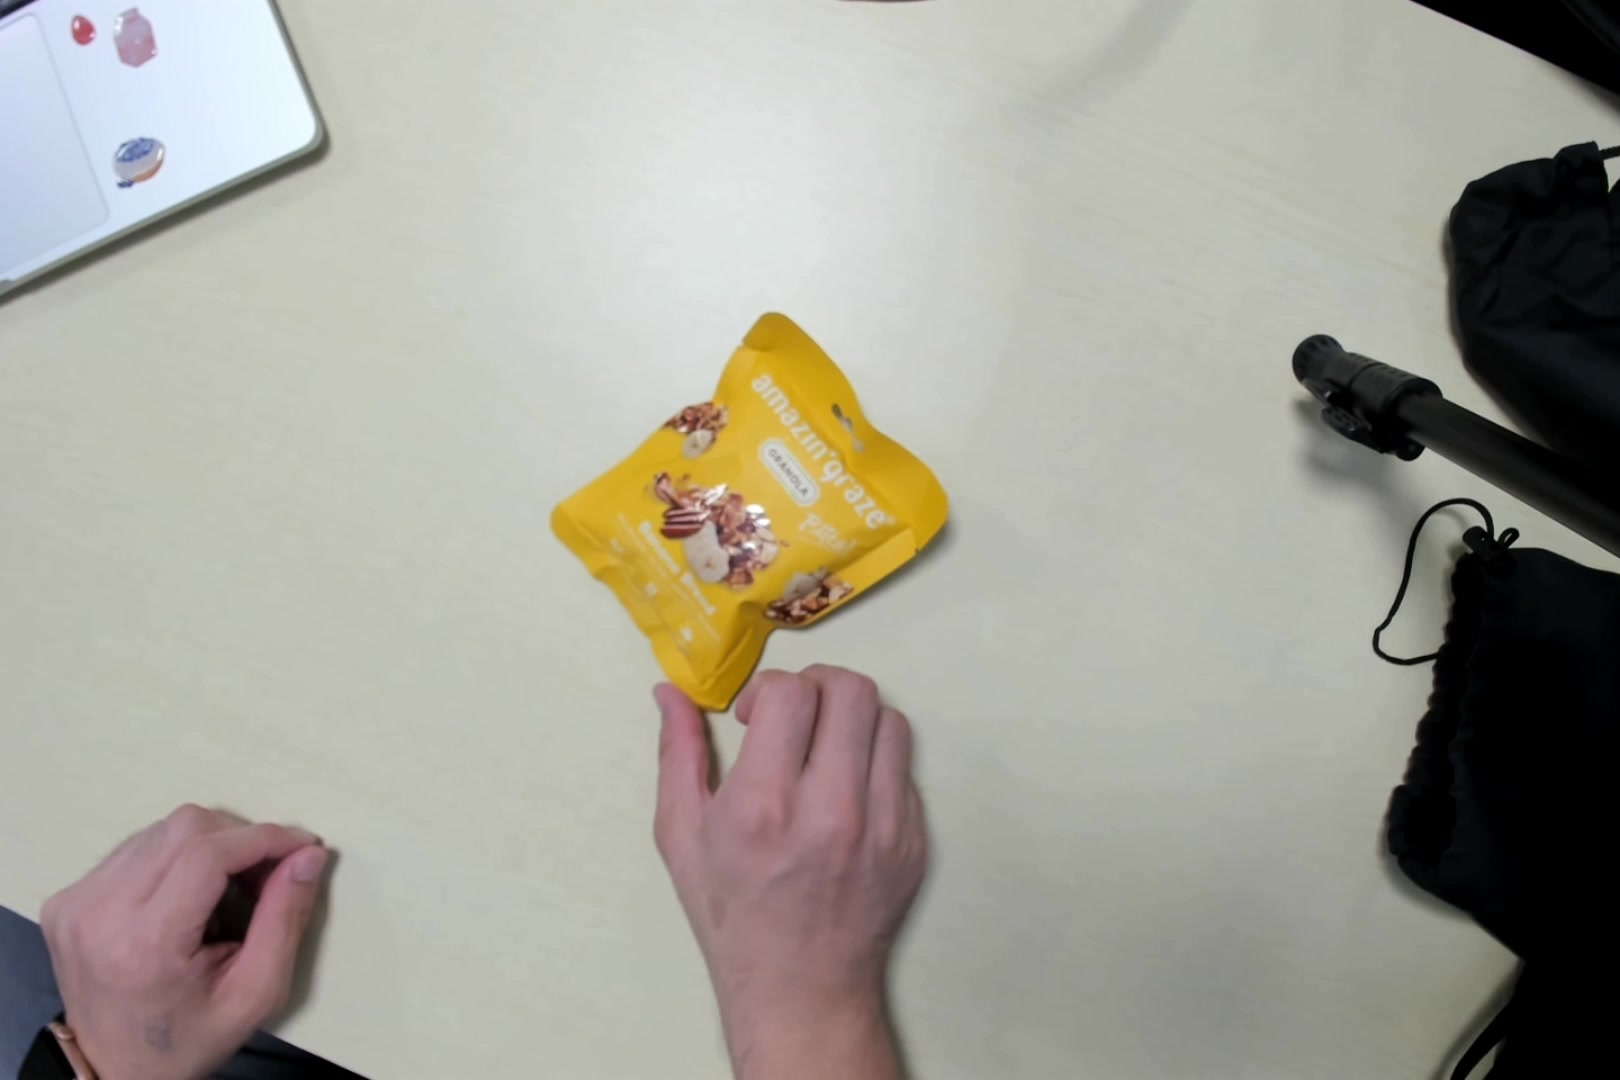BreakfastCereals_0-99g_NonHalal_NonHealthy: (554, 312, 939, 683)
